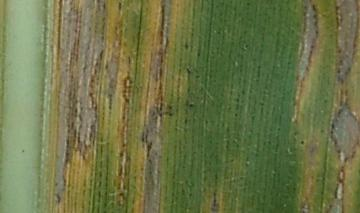tarspot: (299, 139, 307, 147), (186, 67, 194, 75), (184, 41, 191, 50), (167, 103, 176, 110), (188, 102, 196, 109), (166, 112, 176, 117), (21, 148, 26, 154)
